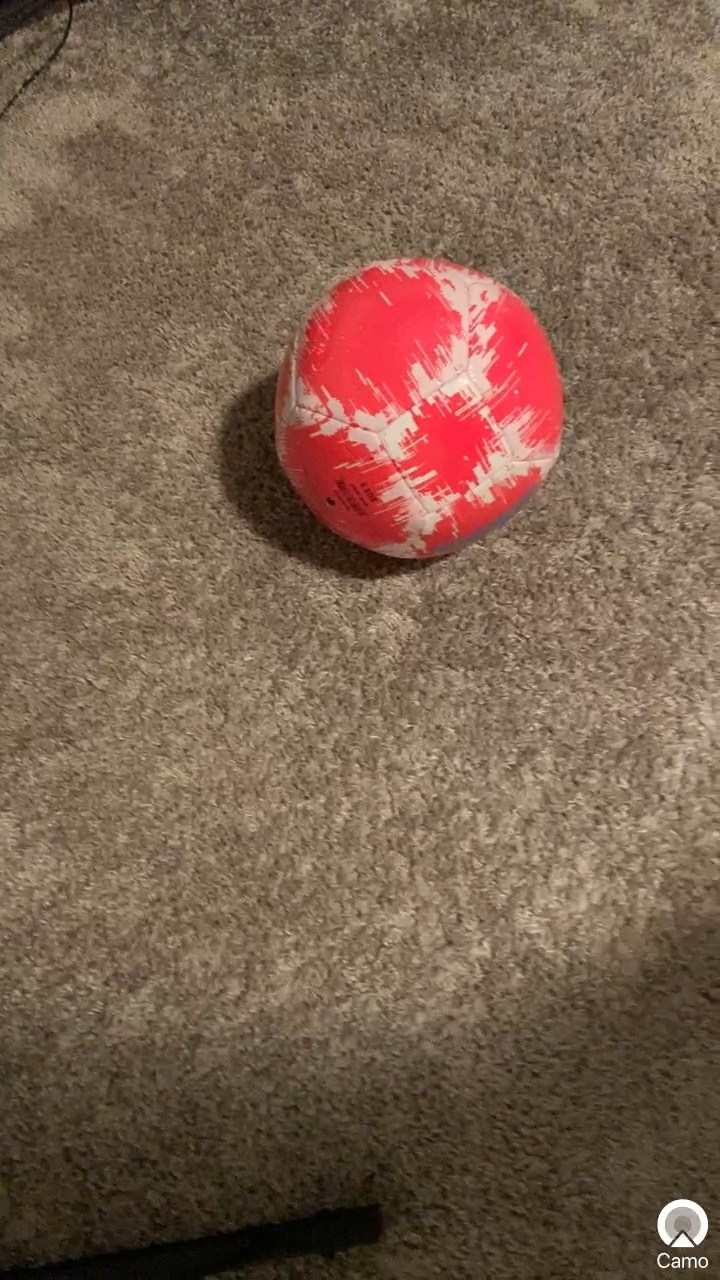Soccer_Ball: (268, 241, 576, 609)
